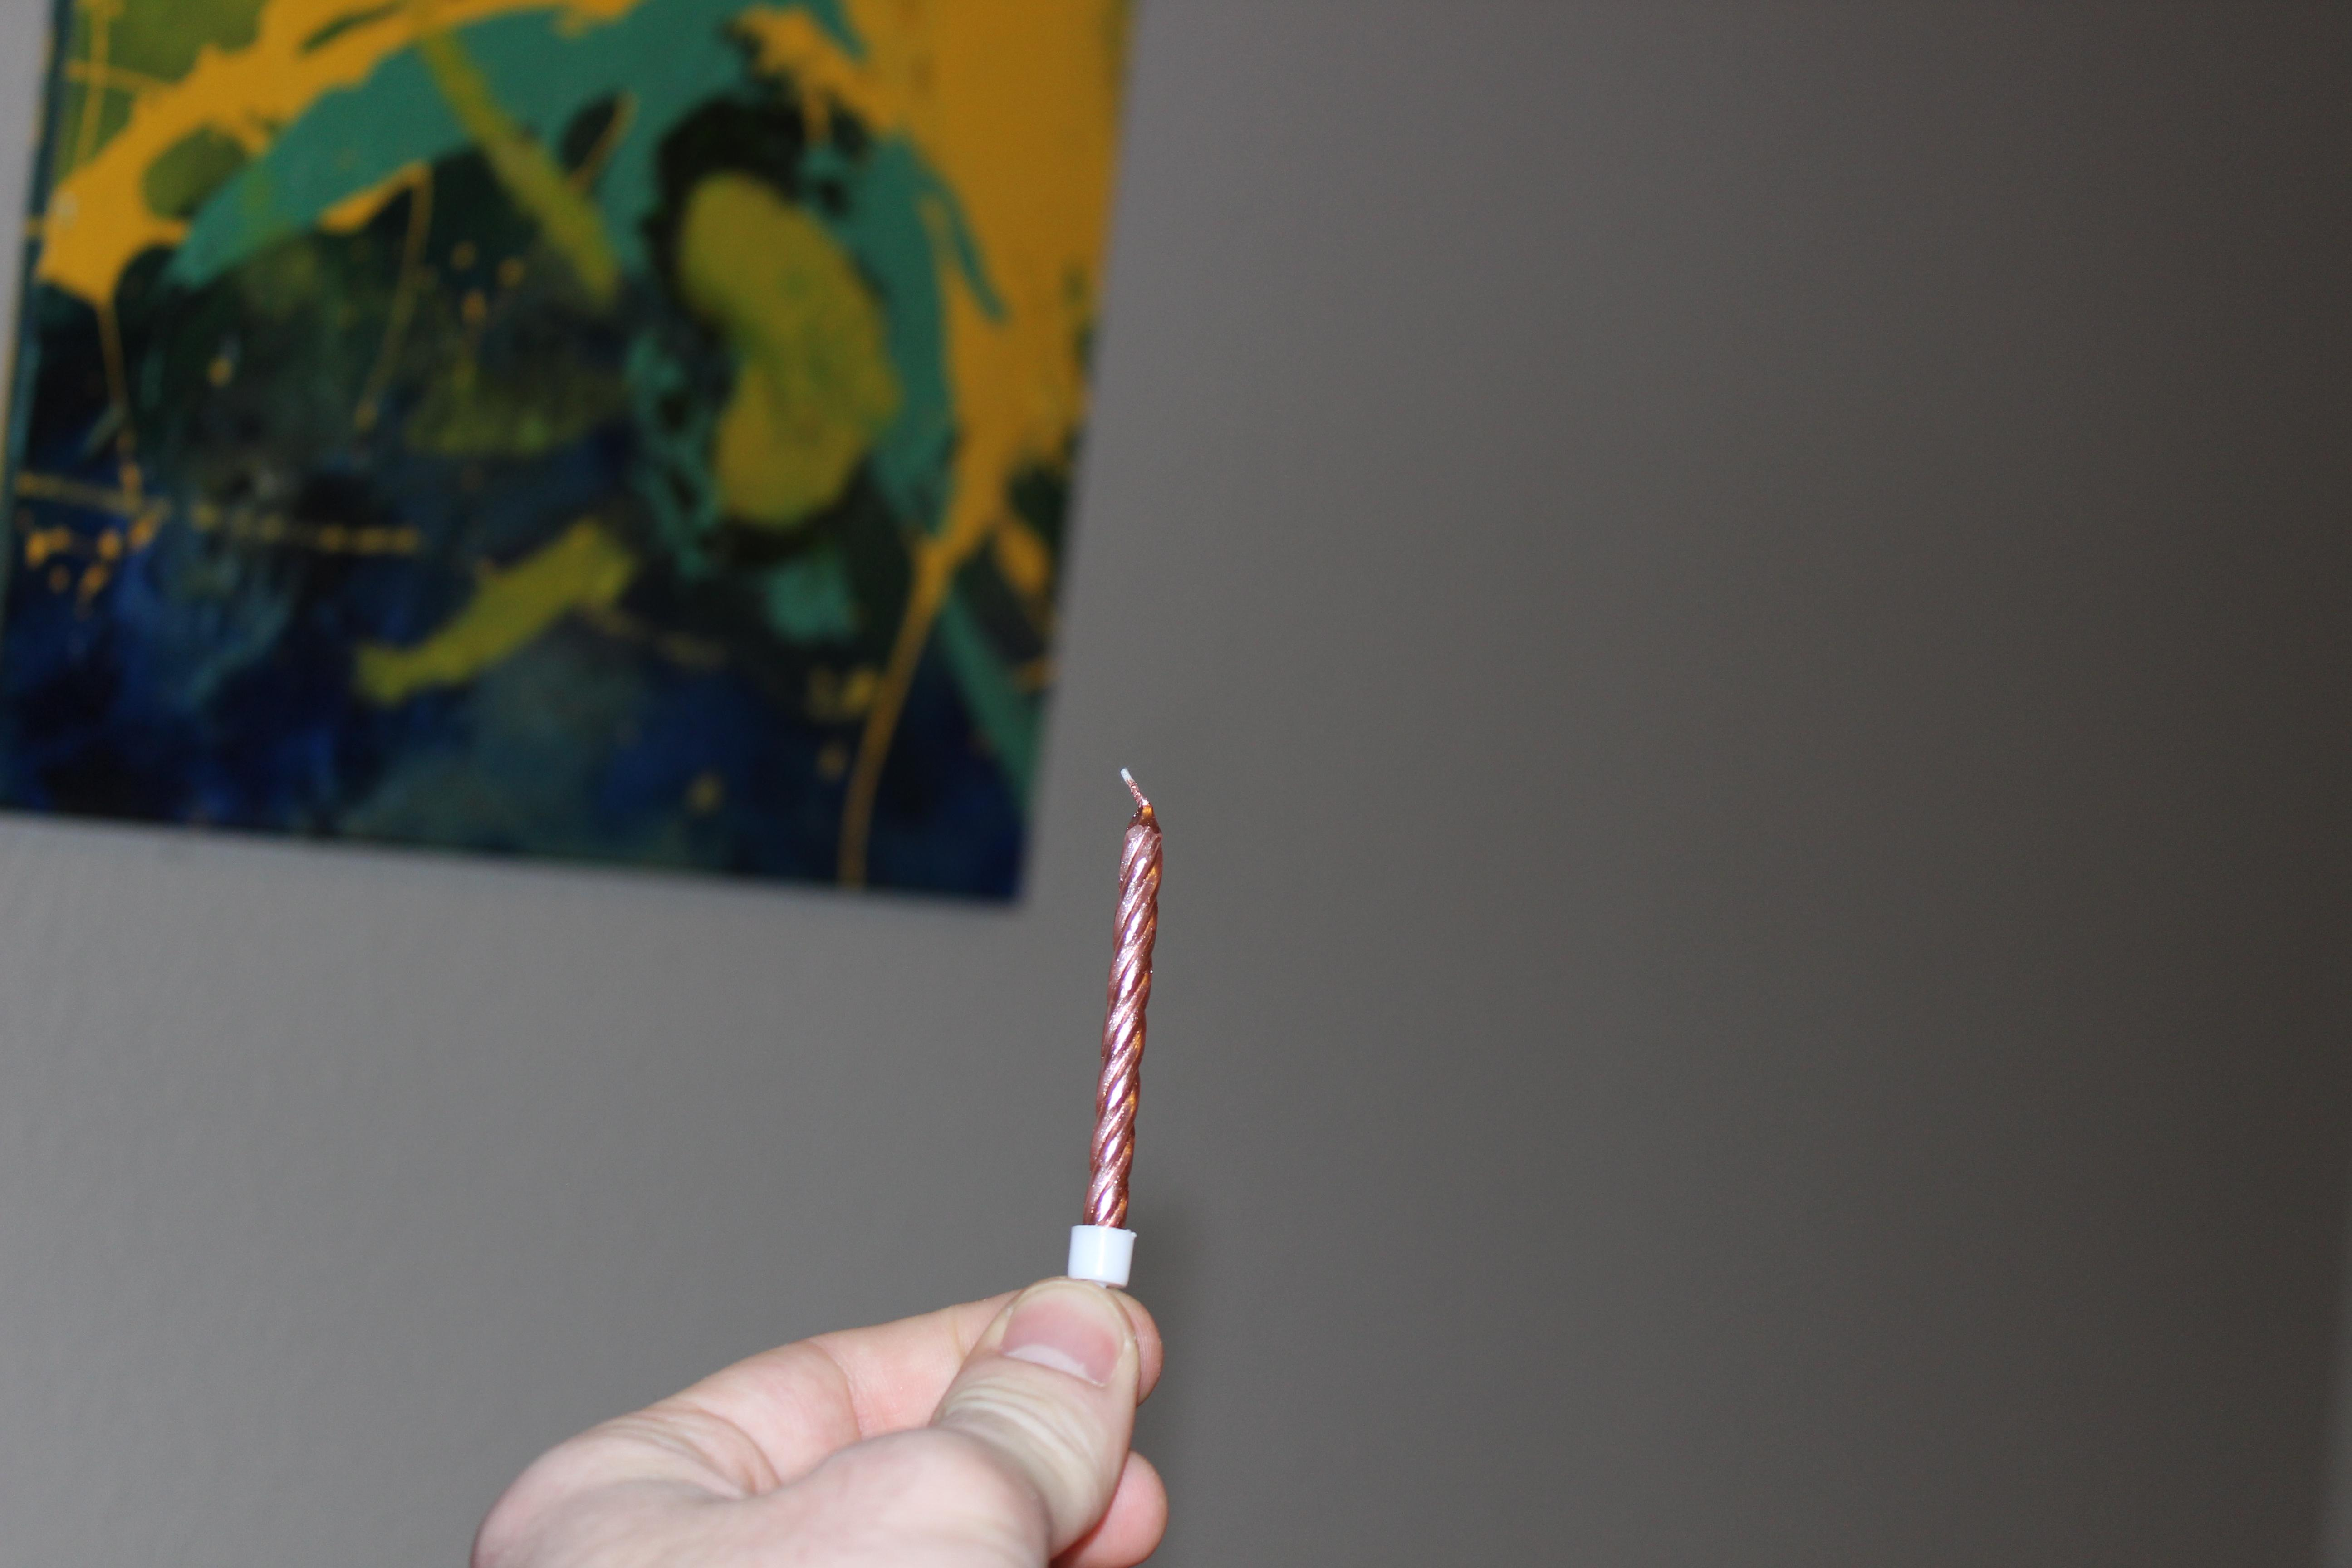pinkCandle: (1022, 737, 1193, 1321)
